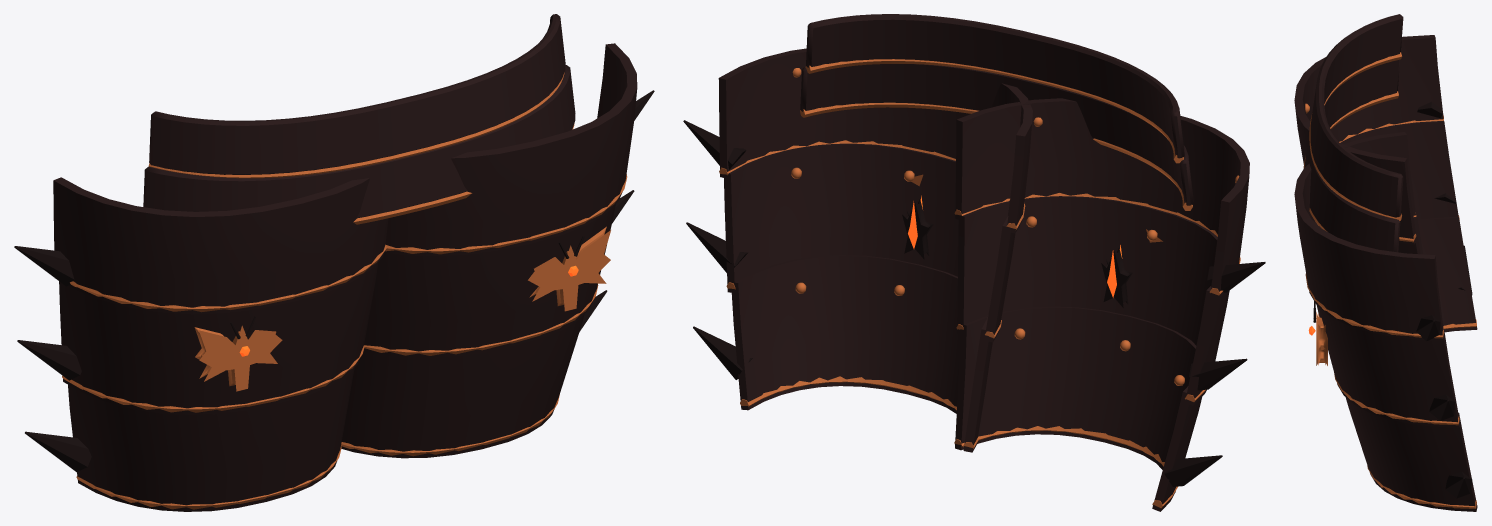
Rendered from asc_worldforger_leggings.glb.
3 views of the same model, side by side, from view 1: azimuth 30°, elevation 25°; view 2: azimuth 150°, elevation 25°; view 3: azimuth 270°, elevation 25° (orthographic). The views are drawn at different scales.
Visible parts, largest first — view 1: AT_thigh_R, AT_thigh_L, asc_worldforger_leggings; view 2: AT_thigh_R, AT_thigh_L, asc_worldforger_leggings; view 3: AT_thigh_L, AT_thigh_R, asc_worldforger_leggings.
Boxes of the visible parts, box(x1,y1,x2,y2) form: AT_thigh_R: box(14, 177, 388, 511); AT_thigh_L: box(341, 43, 654, 458); asc_worldforger_leggings: box(143, 14, 575, 224); AT_thigh_R: box(954, 98, 1265, 511); AT_thigh_L: box(683, 48, 1032, 452); asc_worldforger_leggings: box(800, 14, 1193, 307); AT_thigh_L: box(1294, 132, 1477, 511); AT_thigh_R: box(1294, 35, 1477, 332); asc_worldforger_leggings: box(1303, 14, 1403, 252).
Bounding box in the file's own units: 0.5844 × 0.3481 × 0.177.
